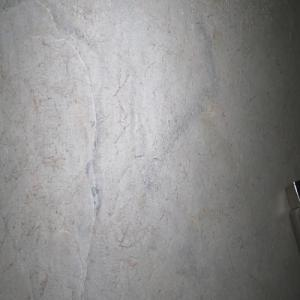MetalPart: (284, 178, 300, 252)
